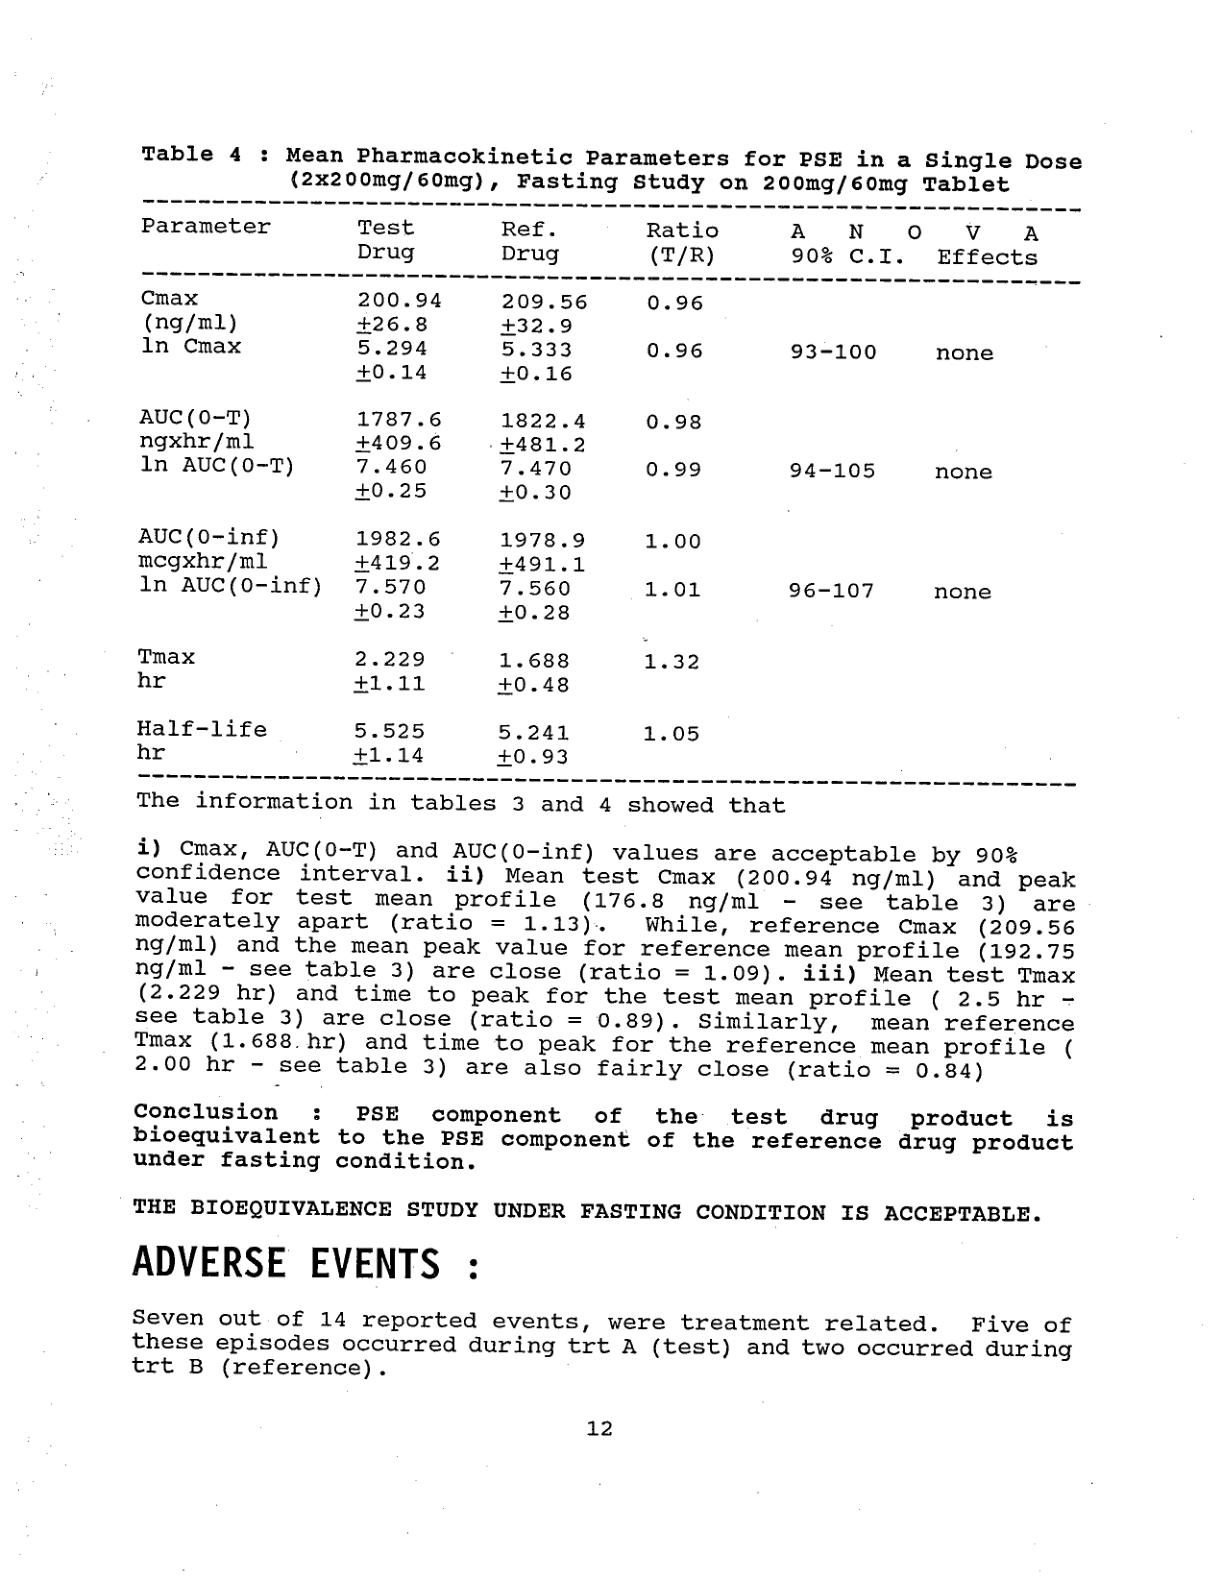partial_lined: (132, 196, 1081, 786)
